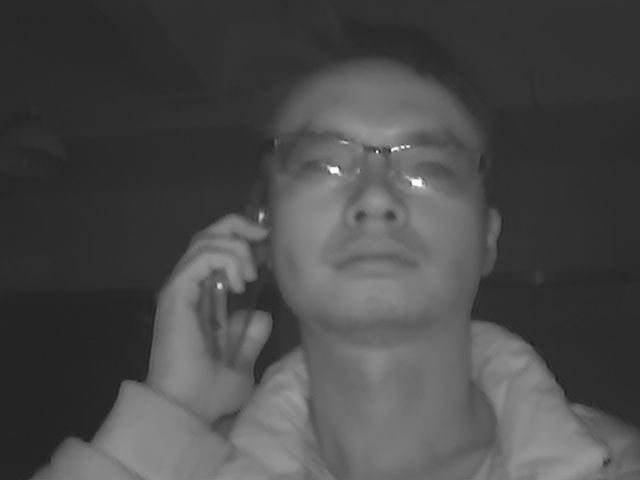hand: (141, 213, 277, 417)
